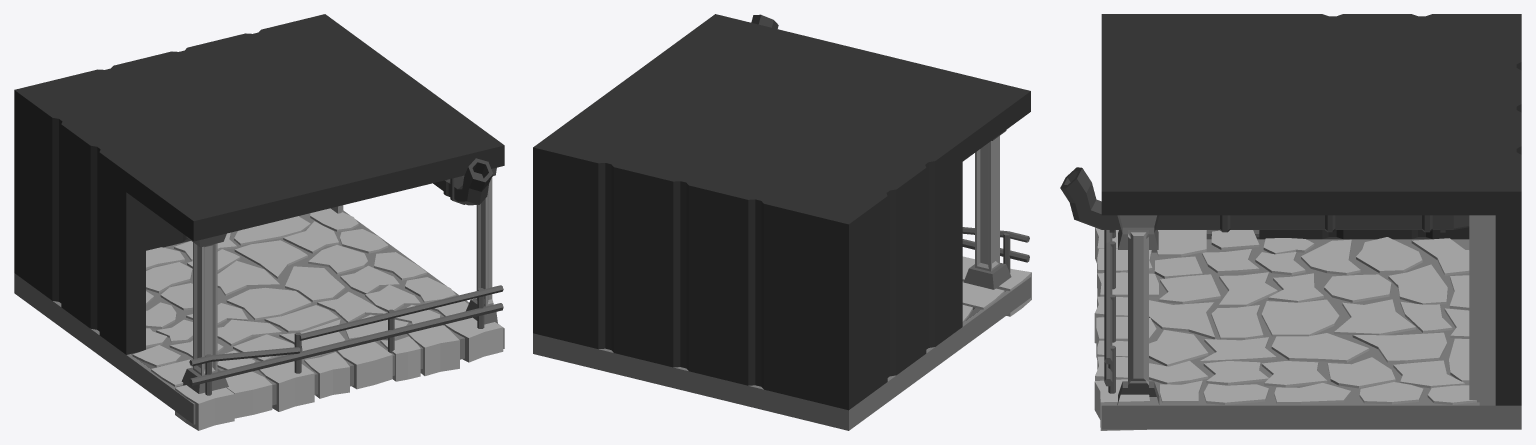
The model's file is CoalGenerator_Level_01_StraightLeft.fbx.
3 views of the same model, side by side, from view 1: azimuth 30°, elevation 25°; view 2: azimuth 150°, elevation 25°; view 3: azimuth 270°, elevation 25° (orthographic). The views are drawn at different scales.
Visible parts, largest first — view 1: CoalGenerator_Level_01_StraightLeft; view 2: CoalGenerator_Level_01_StraightLeft; view 3: CoalGenerator_Level_01_StraightLeft.
Part boxes in pixels (left/top/right/bottom): CoalGenerator_Level_01_StraightLeft: left=14, top=14, right=504, bottom=430; CoalGenerator_Level_01_StraightLeft: left=533, top=14, right=1031, bottom=430; CoalGenerator_Level_01_StraightLeft: left=1060, top=14, right=1521, bottom=430.
Bounding box in the file's own units: 800 × 521 × 879.
